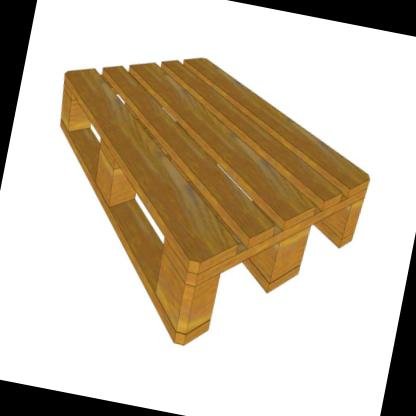BoxFace: (58, 56, 370, 350)
